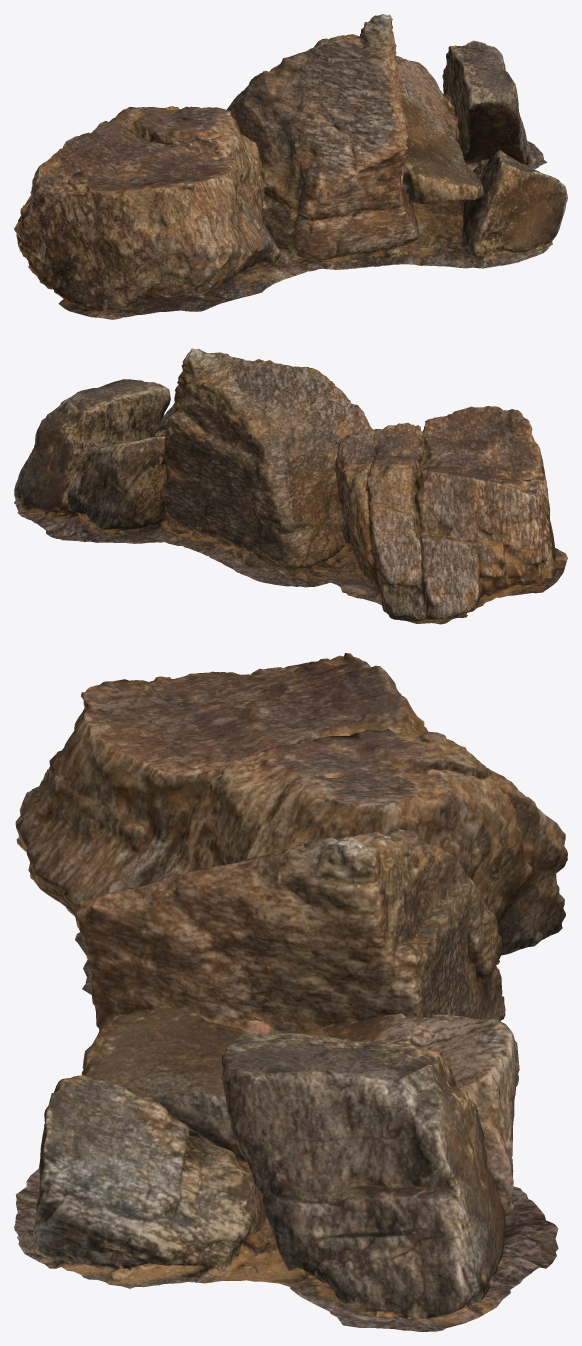
The model's file is namaqualand_boulder_02.glb.
The picture shows the model from 3 angles, top to bottom: view 1: azimuth 30°, elevation 25°; view 2: azimuth 150°, elevation 25°; view 3: azimuth 270°, elevation 25°; orthographic projection. The views are drawn at different scales.
Parts seen in each view (by area): view 1: boulder_02; view 2: boulder_02; view 3: boulder_02.
Part boxes in pixels (<box>): boulder_02: <box>14,14,567,319</box>; boulder_02: <box>14,348,567,624</box>; boulder_02: <box>14,653,567,1331</box>.
Bounding box in the file's own units: 2 × 0.6971 × 0.9749.
Materials: 1 (1 with a texture image).
